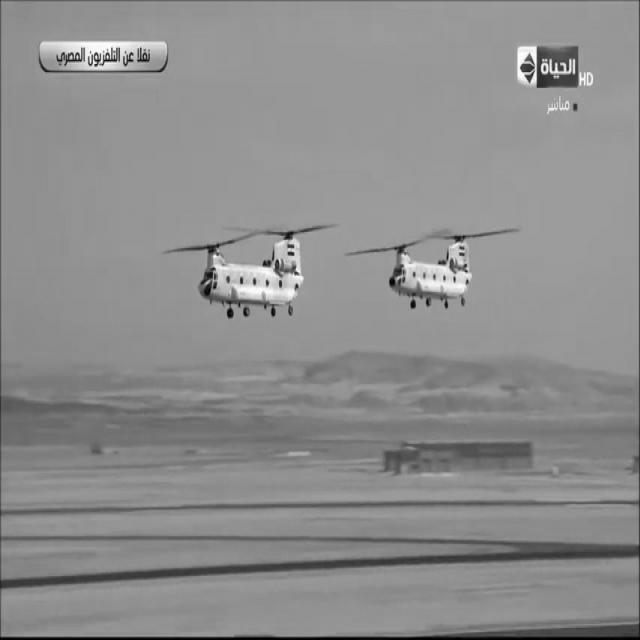helikopter: (186, 209, 330, 347), (362, 222, 493, 320)
